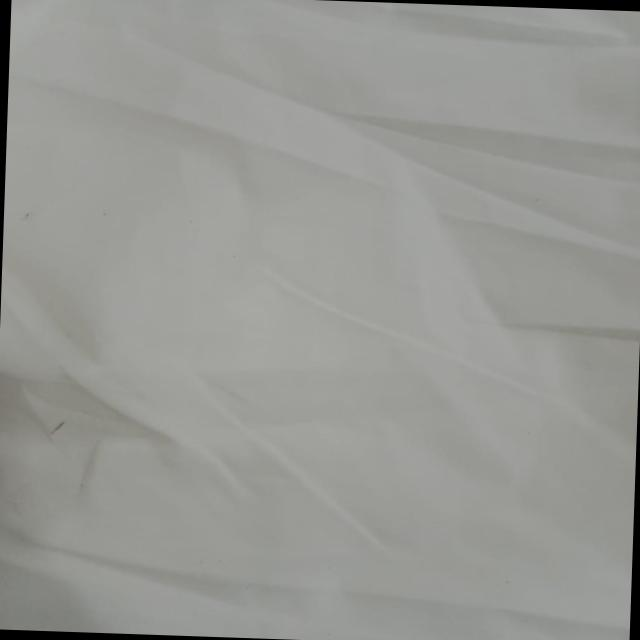stain: (29, 407, 80, 446)
